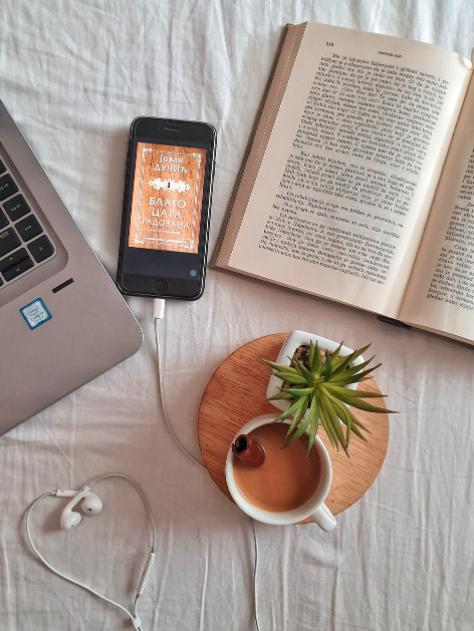mobile: (119, 116, 217, 299)
